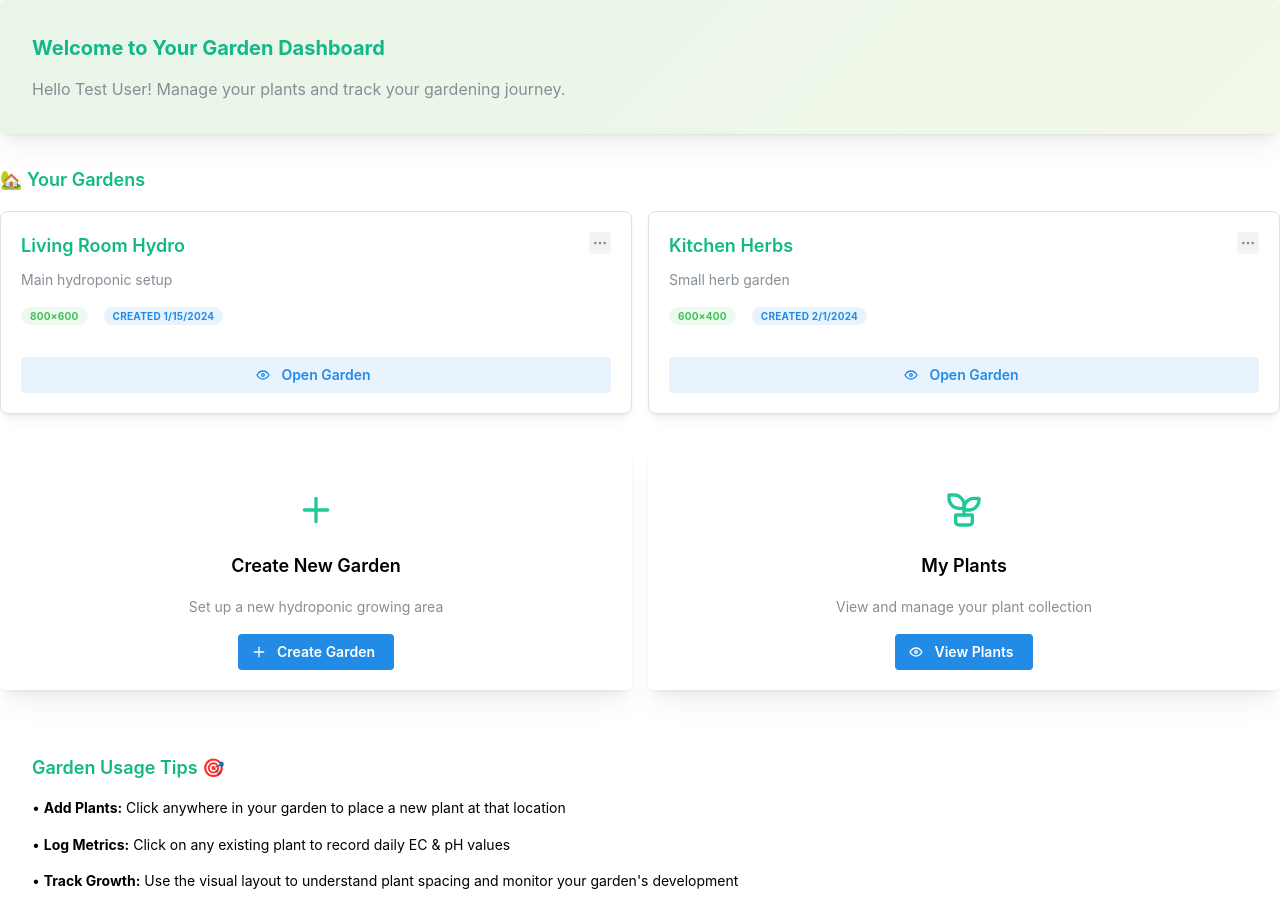
Dashboard Component › Archive Garden Modal › opens archive confirmation modal
The width and height of the screenshot is (1280, 900).
expect the text "Living Room Hydro" is shown: met, box [21, 235, 185, 256]
Step 1. Click the button without text in the row of "Living Room Hydro" → [600, 243], box [589, 232, 611, 254]
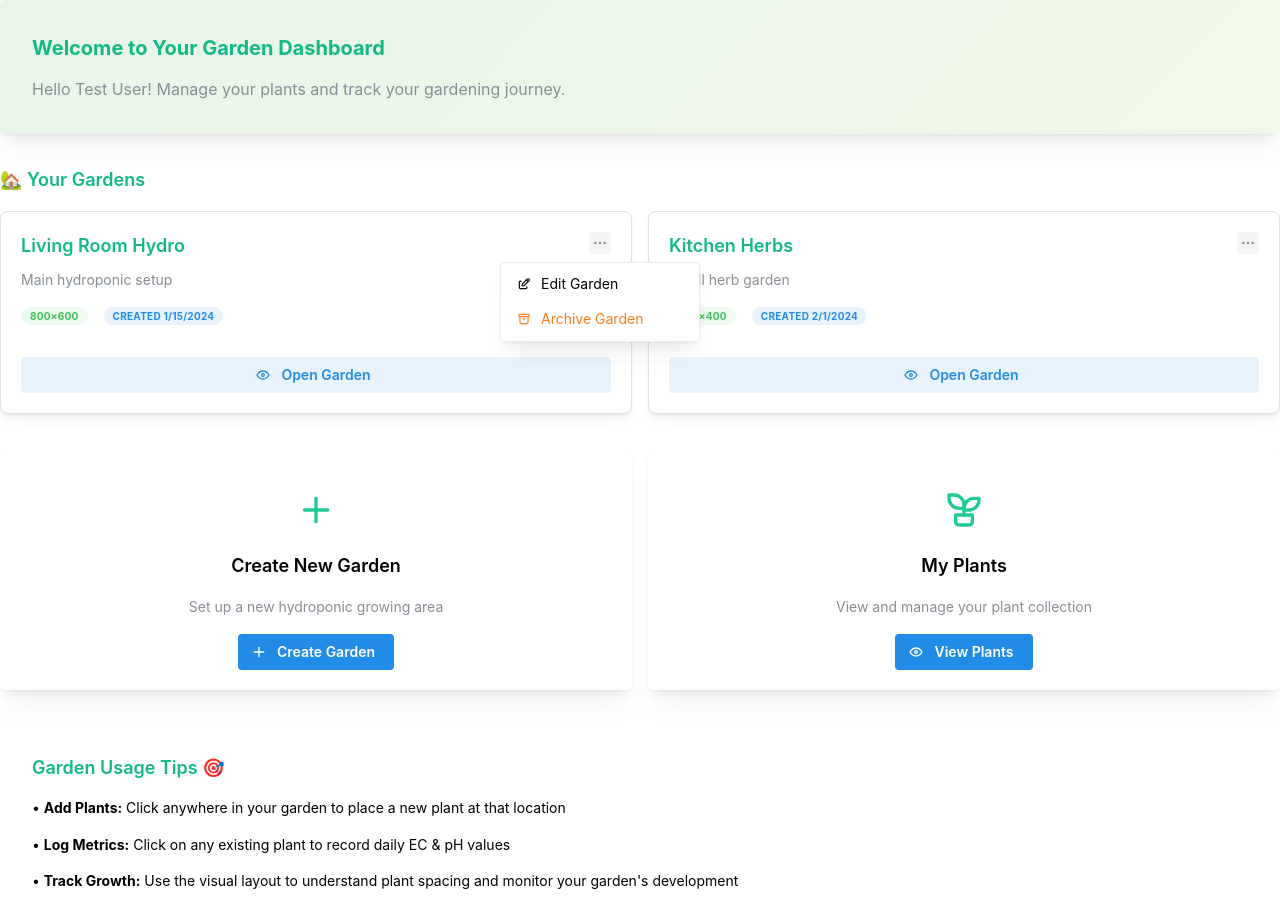
expect the text "Archive Garden" is shown: met, box [541, 310, 643, 327]
Step 2. Click the menu item "Archive Garden" → [600, 319], box [505, 302, 695, 337]
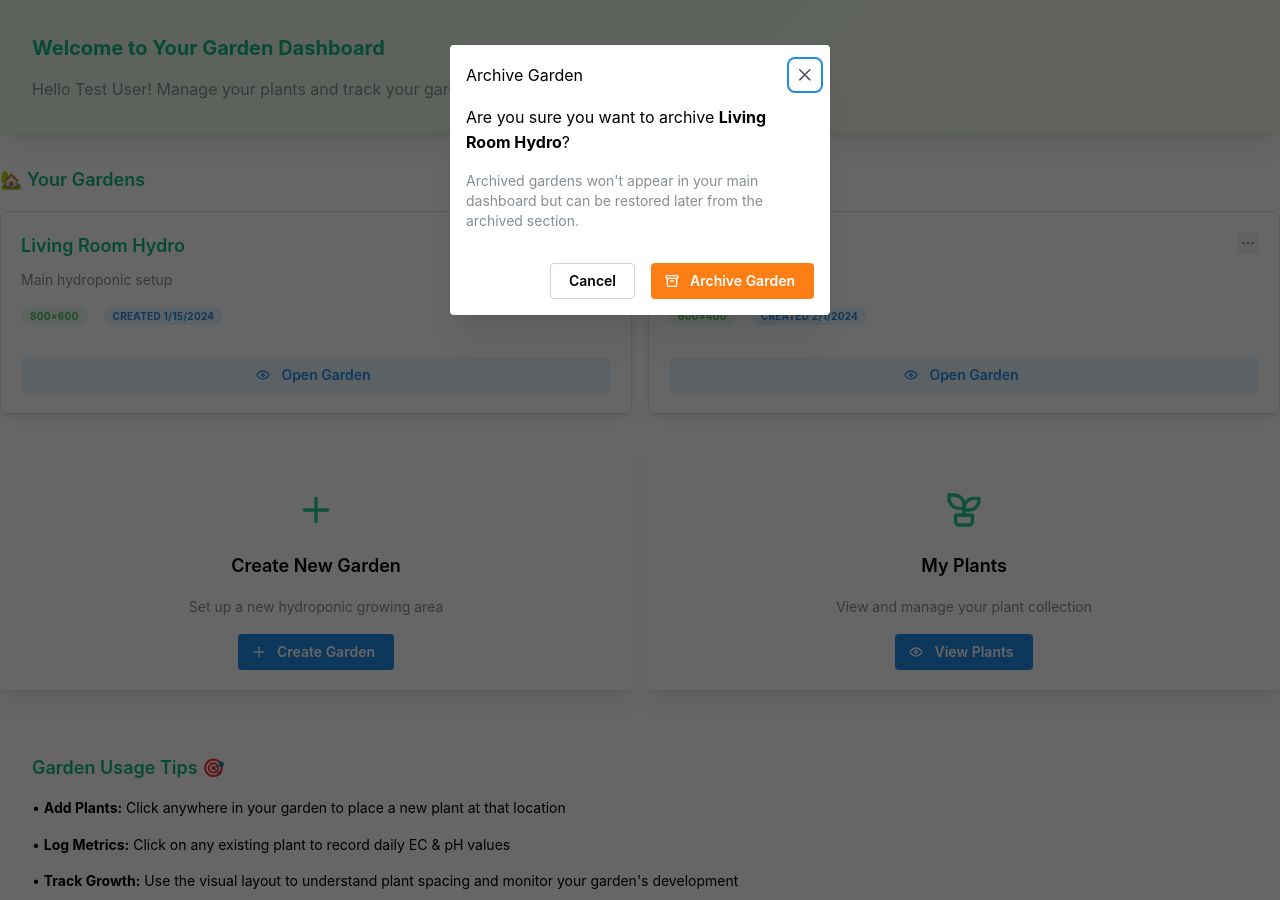
expect the dialog is shown: met, box [450, 45, 830, 316]
expect the text "Are you sure you want to archive Living Room Hydro?" is shown: met, box [466, 105, 814, 155]
expect the text "Living Room Hydro" is shown: met, box [466, 107, 766, 152]
